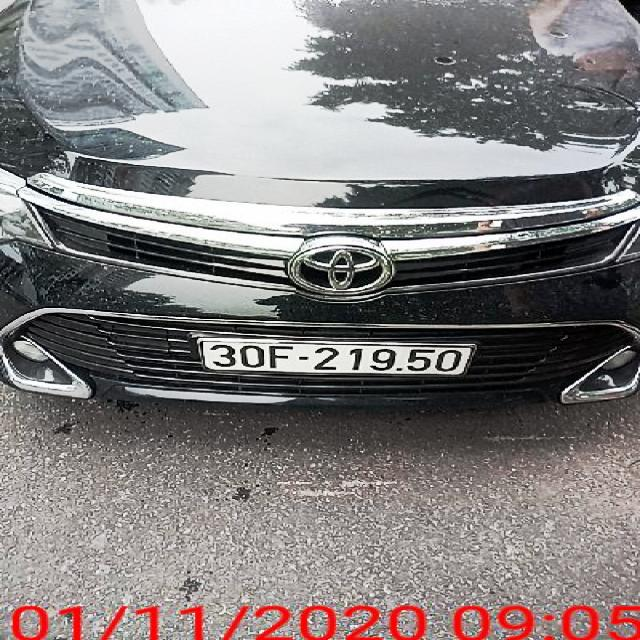license_plate: (200, 342, 473, 373)
